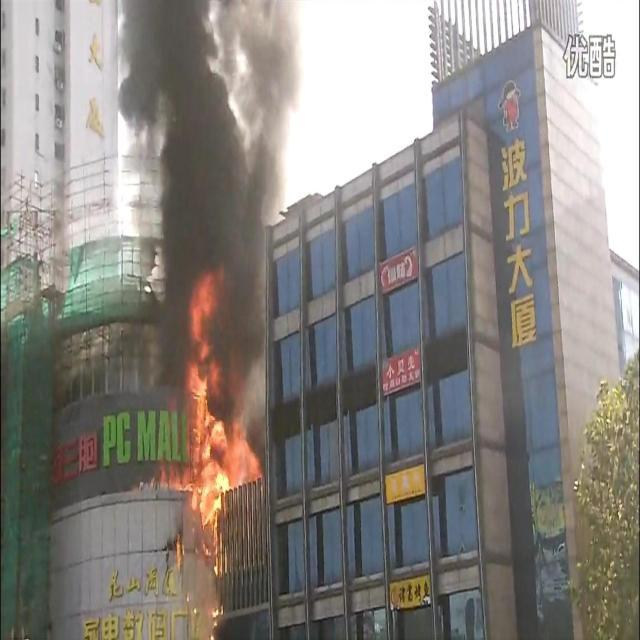Fire: (158, 269, 264, 576), (210, 604, 224, 640)
Smoke: (117, 1, 302, 472)
